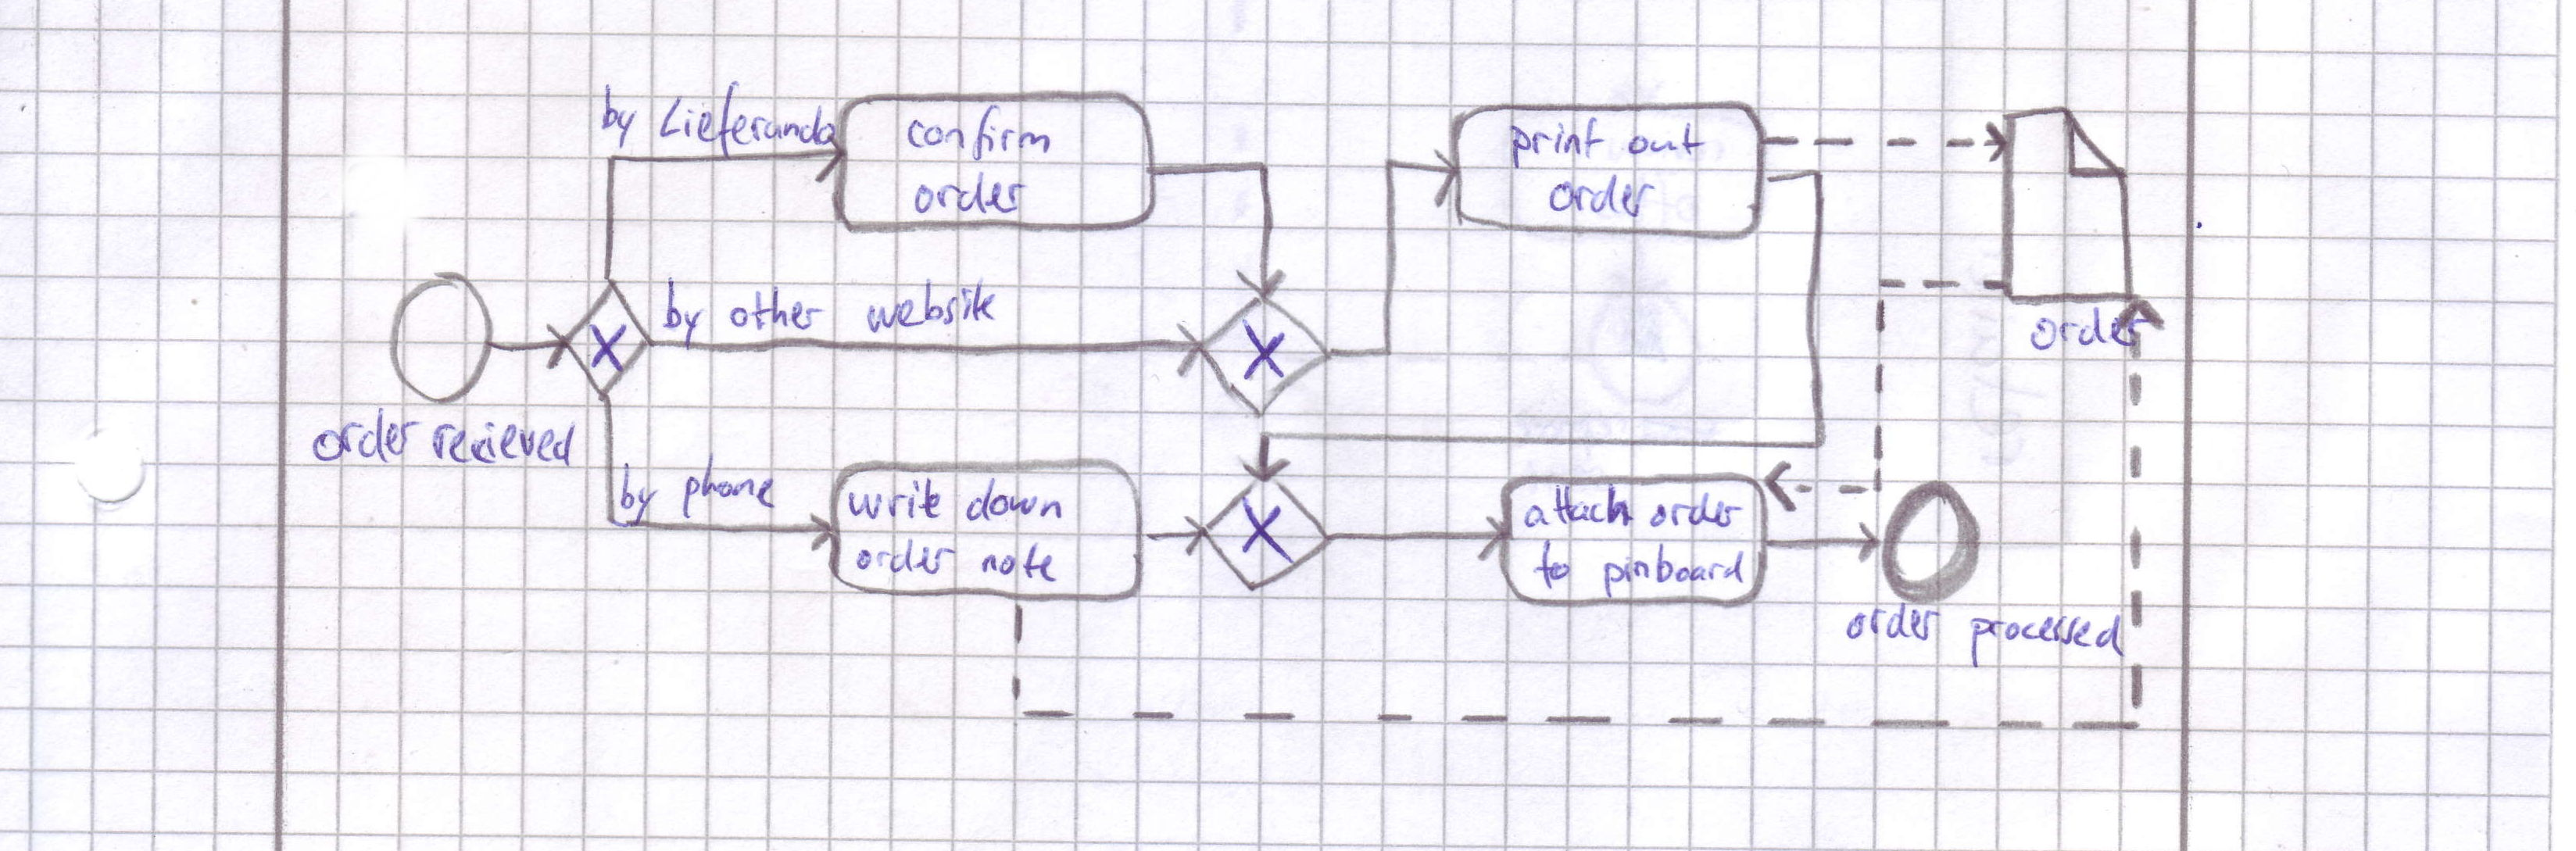Lieferando: (655, 80, 838, 156)
attach: (1525, 486, 1641, 534)
by: (649, 278, 715, 343), (611, 460, 664, 526), (596, 84, 644, 151)
confirm: (895, 102, 1055, 166)
down: (961, 478, 1065, 527)
note: (977, 539, 1066, 585)
order: (2027, 302, 2157, 353), (310, 406, 419, 465), (851, 531, 968, 582), (910, 169, 1028, 218), (1544, 176, 1658, 220), (1840, 603, 1950, 644), (1648, 488, 1743, 532)
other: (726, 283, 831, 345)
out: (1626, 118, 1704, 171)
phone: (678, 450, 784, 517)
pinboard: (1595, 544, 1750, 598)
print: (1508, 118, 1605, 169)
processed: (1960, 609, 2132, 674)
recieved: (424, 414, 582, 468)
to: (1529, 537, 1590, 593)
websik: (864, 274, 1000, 337)
write: (843, 473, 950, 526)
